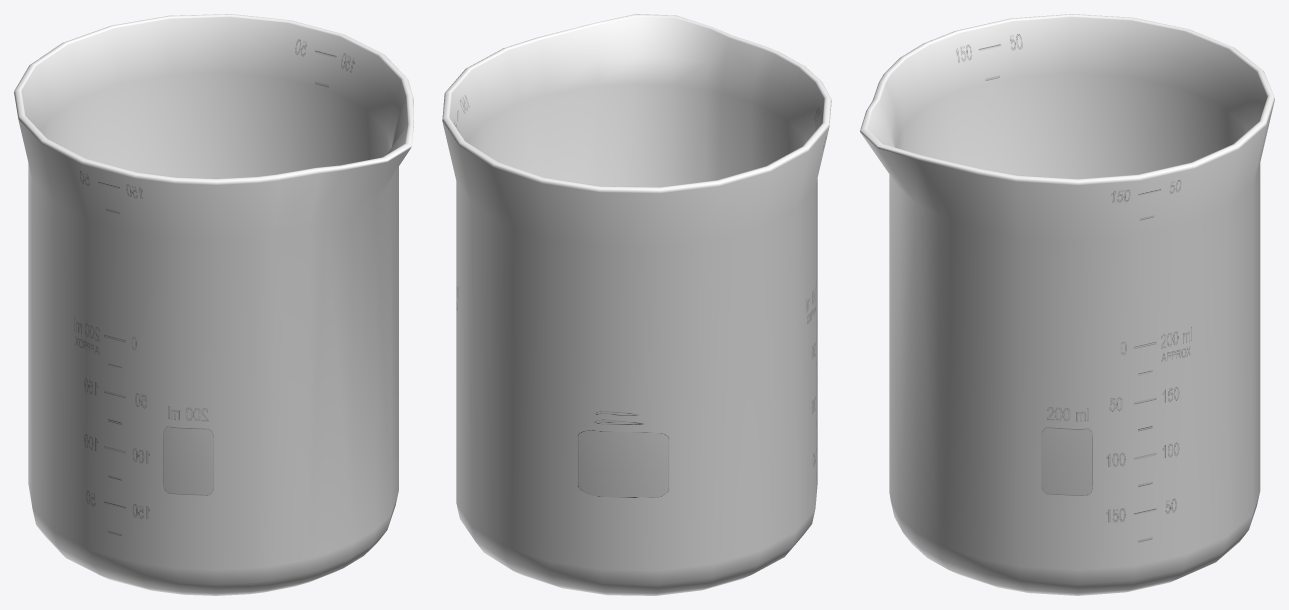
File: chemical_beaker_200ml.FBX
3 renders of one model, left to right at view 1: azimuth 30°, elevation 25°; view 2: azimuth 150°, elevation 25°; view 3: azimuth 270°, elevation 25°, orthographic. The views are drawn at different scales.
Parts seen in each view (by area): view 1: chemical_beaker_200ml; view 2: chemical_beaker_200ml; view 3: chemical_beaker_200ml.
Part boxes in pixels (left/top/right/bottom): chemical_beaker_200ml: left=14, top=14, right=413, bottom=595; chemical_beaker_200ml: left=442, top=14, right=831, bottom=595; chemical_beaker_200ml: left=860, top=14, right=1274, bottom=595.
Bounding box in the file's own units: 7.78 × 9.35 × 8.07.
Materials: 1 (1 with a texture image).
